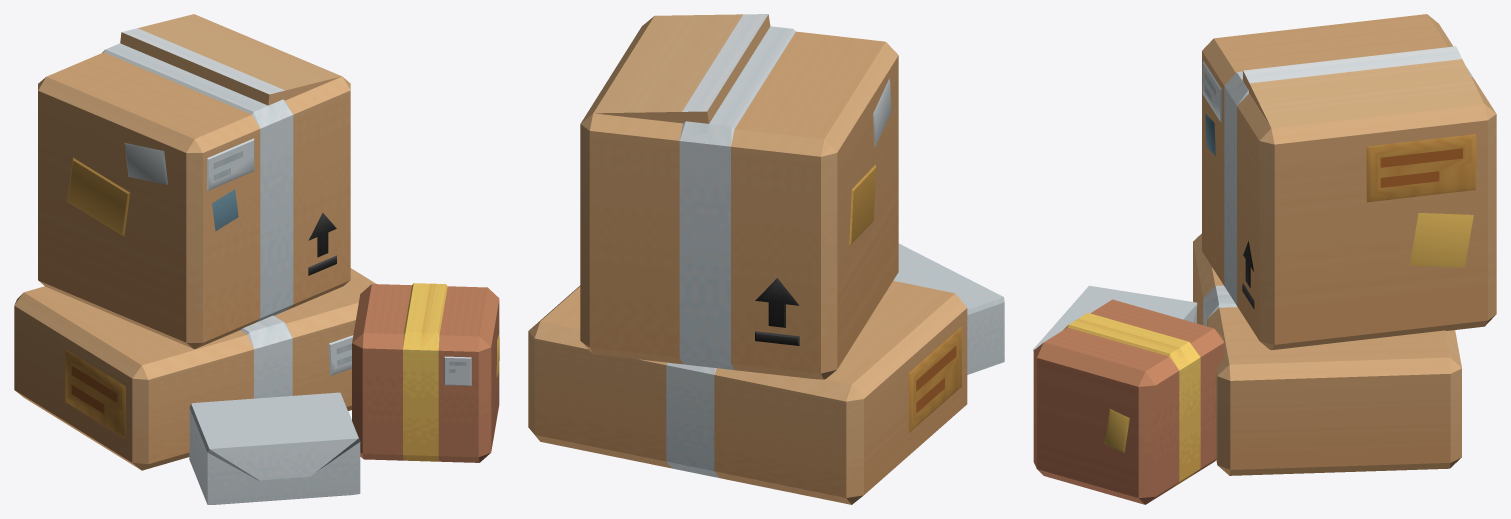
Rendered from Containers_Pile_Small.gltf.
3 views of the same model, side by side, from view 1: azimuth 30°, elevation 25°; view 2: azimuth 150°, elevation 25°; view 3: azimuth 270°, elevation 25° (orthographic). The views are drawn at different scales.
Visible parts, largest first — view 1: Containers_Pile_Small; view 2: Containers_Pile_Small; view 3: Containers_Pile_Small.
Part boxes in pixels (x1,y1,x2,y2): Containers_Pile_Small: (14,14,499,504); Containers_Pile_Small: (528,14,1004,504); Containers_Pile_Small: (1033,14,1496,504).
Bounding box in the file's own units: 1.3 × 1.17 × 1.41.
1 material, 1 textured.
